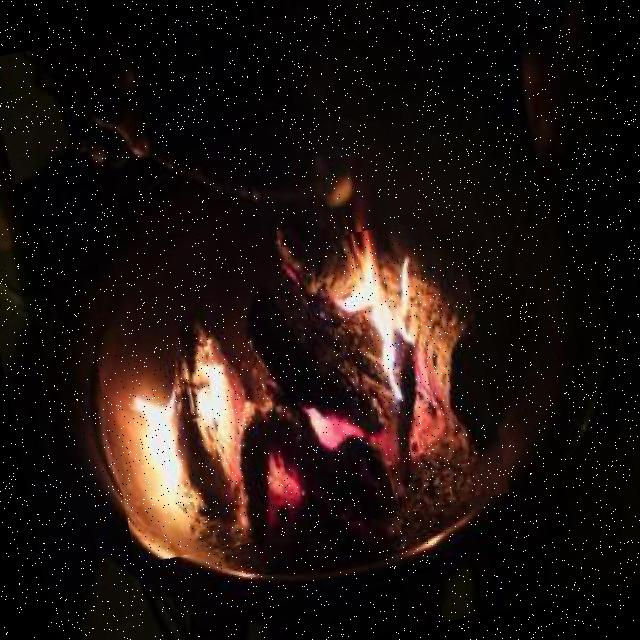fire: (82, 213, 509, 564)
